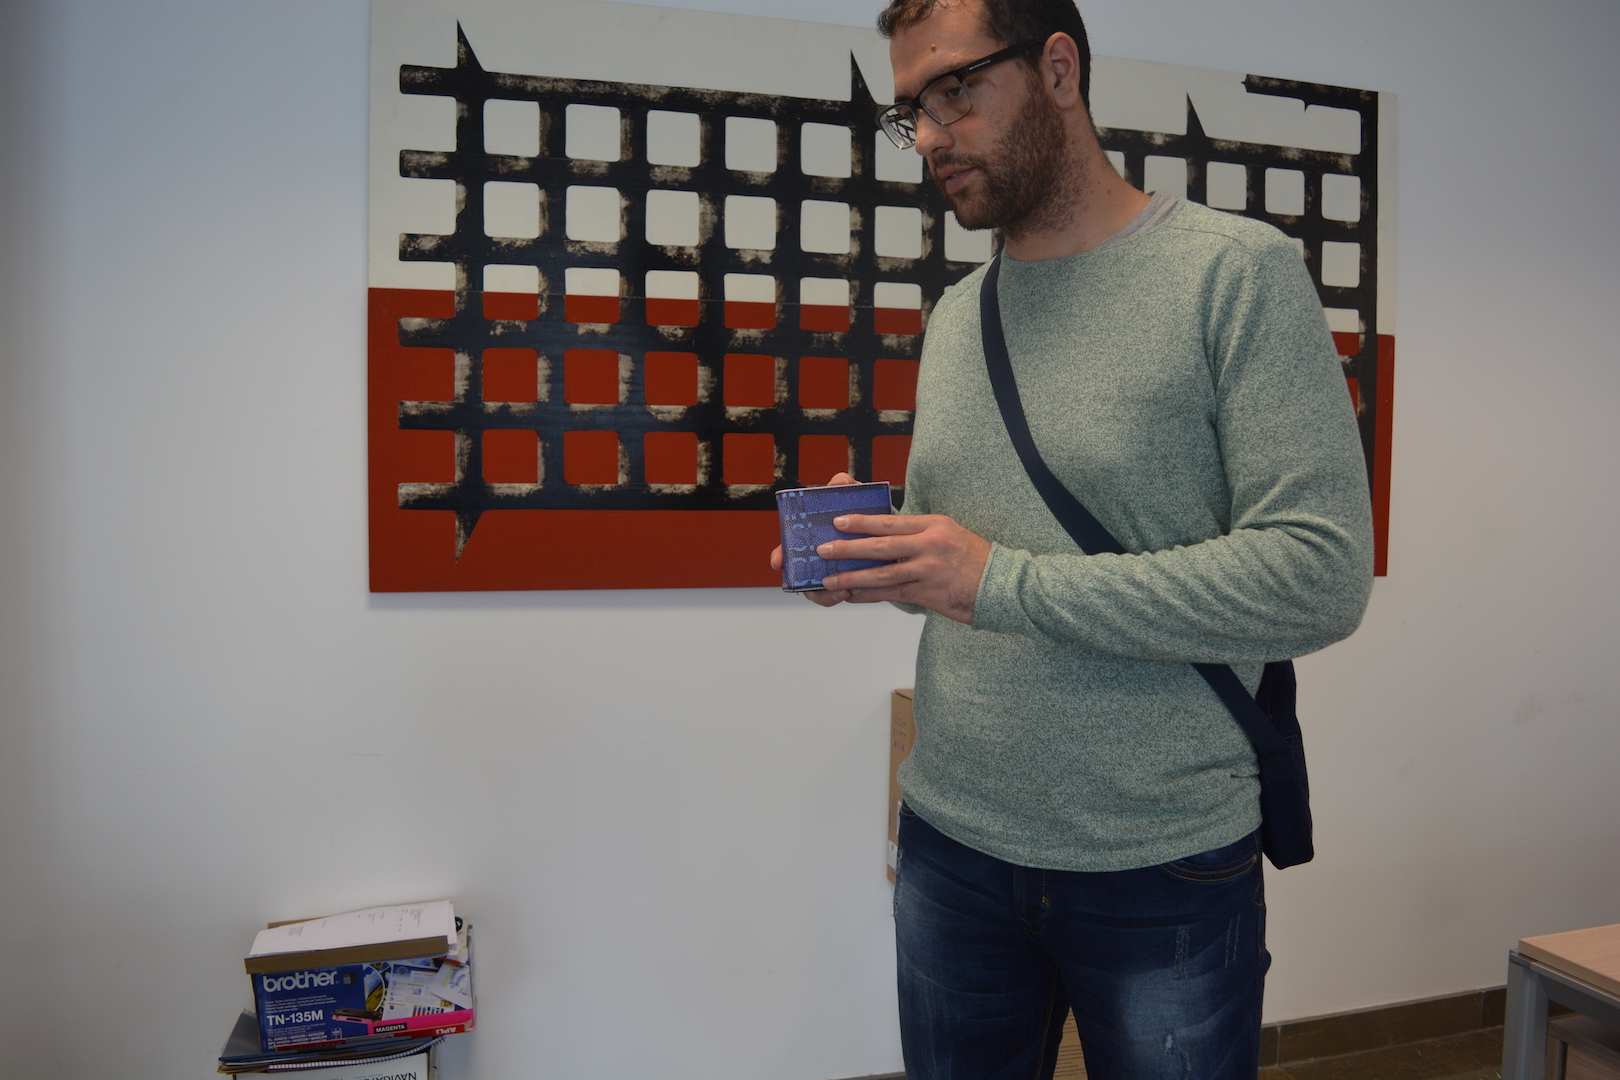monedero: (776, 481, 894, 593)
